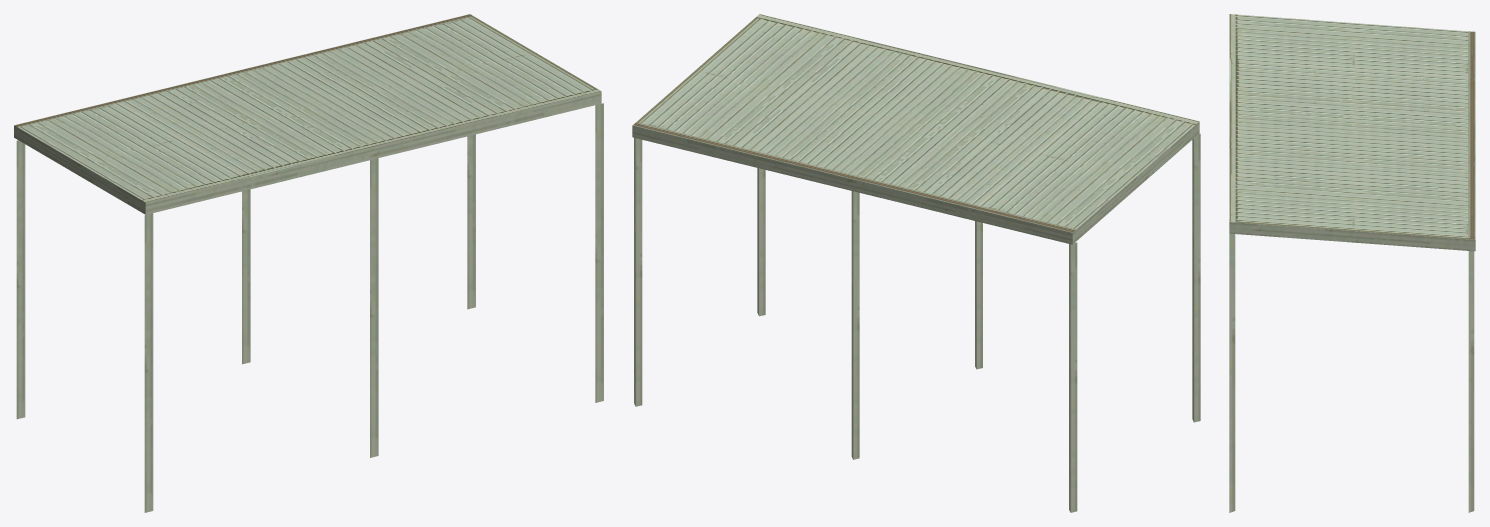
The model's file is shelter-10x5x3-cbj_LOD01.gltf.
The picture shows the model from 3 angles, left to right: view 1: azimuth 30°, elevation 25°; view 2: azimuth 150°, elevation 25°; view 3: azimuth 270°, elevation 25°; orthographic projection. The views are drawn at different scales.
Visible parts, largest first — view 1: Cube01; view 2: Cube01; view 3: Cube01.
Boxes of the visible parts, x1,y1,x2,y2 form: Cube01: (14, 14, 603, 512); Cube01: (632, 14, 1200, 512); Cube01: (1229, 14, 1475, 512).
Bounding box in the file's own units: 10.07 × 6.51 × 5.
